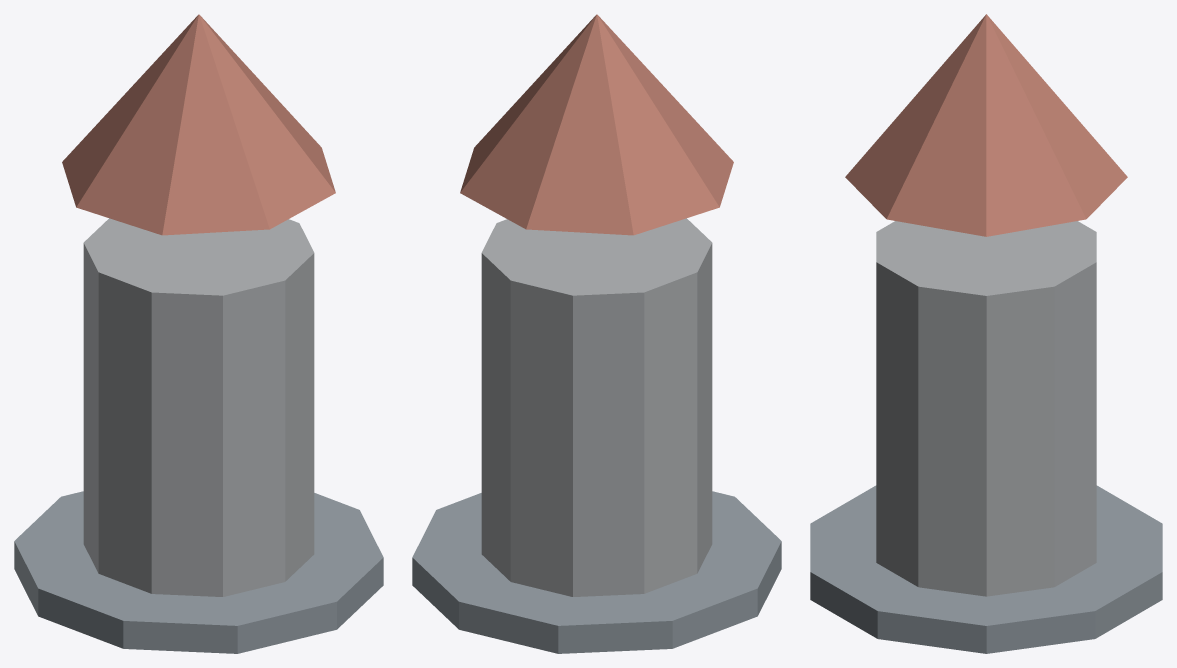
File: torre_vigia.glb
The picture shows the model from 3 angles, left to right: view 1: azimuth 30°, elevation 25°; view 2: azimuth 150°, elevation 25°; view 3: azimuth 270°, elevation 25°; orthographic projection.
Parts seen in each view (by area): view 1: part_000, part_001, part_002; view 2: part_000, part_001, part_002; view 3: part_000, part_001, part_002.
Part boxes in pixels (<box>): part_000: <box>83,218,314,596</box>; part_001: <box>62,14,335,235</box>; part_002: <box>14,491,383,653</box>; part_000: <box>481,218,712,596</box>; part_001: <box>460,14,733,235</box>; part_002: <box>412,491,781,653</box>; part_000: <box>876,221,1096,596</box>; part_001: <box>845,14,1127,236</box>; part_002: <box>810,485,1162,653</box>.
Bounding box in the file's own units: 1.44 × 2.41 × 1.37.
